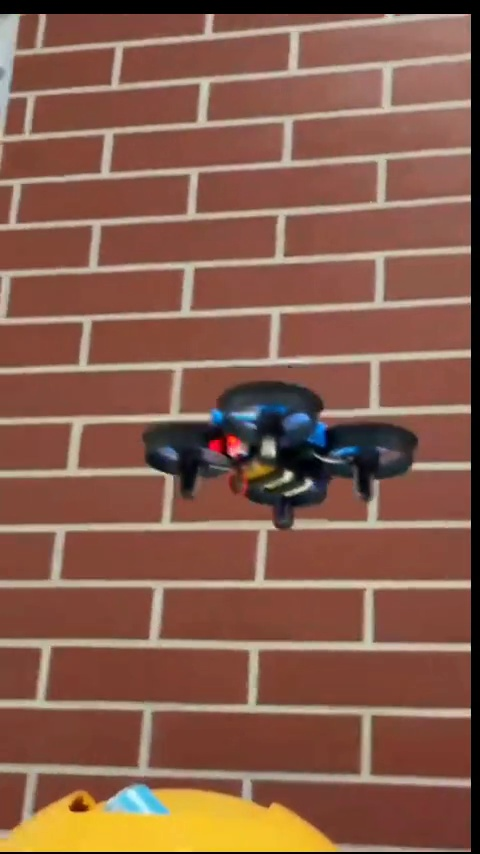drone: (135, 383, 414, 529)
